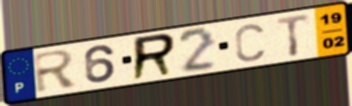2: (176, 26, 222, 76)
6: (82, 44, 118, 85)
C: (233, 22, 267, 64)
R: (130, 32, 178, 83), (32, 48, 81, 95)
T: (274, 12, 312, 58)
